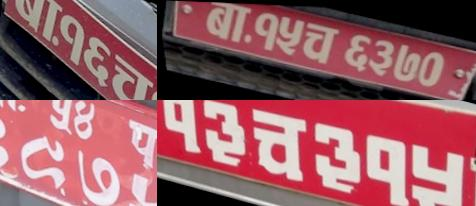0: (411, 44, 449, 90)
1: (347, 124, 423, 206), (157, 100, 213, 158), (47, 9, 91, 69), (243, 6, 286, 58)
3: (296, 115, 371, 197), (185, 100, 257, 171), (362, 34, 400, 78)
4: (64, 100, 103, 145)
5: (392, 132, 474, 206), (268, 12, 310, 60), (117, 167, 157, 206), (37, 100, 79, 136)
6: (72, 32, 117, 87), (335, 28, 377, 76)
7: (62, 145, 128, 206), (386, 38, 425, 84)
8: (449, 144, 476, 206)
9: (6, 127, 76, 198), (0, 104, 18, 174)
ba: (197, 1, 259, 50), (5, 0, 68, 44)
cha: (236, 100, 317, 184), (97, 48, 157, 100), (293, 20, 346, 71)
pa: (114, 112, 157, 170)
